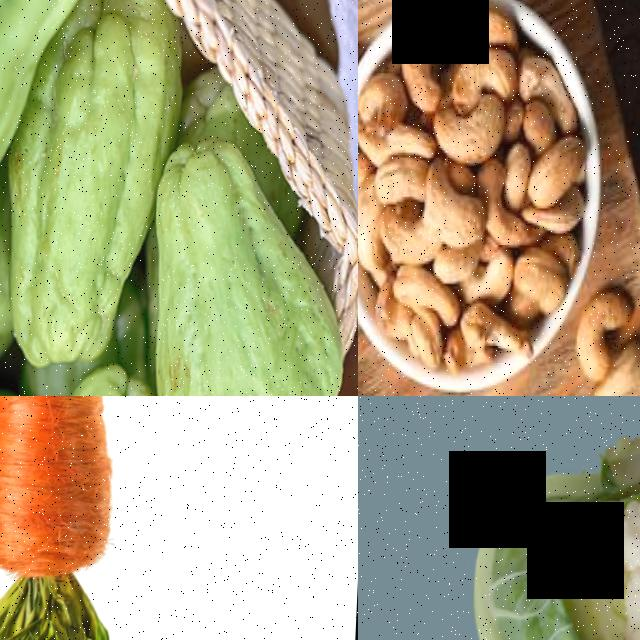carrot: (0, 396, 149, 624)
cashew: (410, 163, 495, 253), (397, 3, 447, 116), (524, 239, 574, 332), (441, 52, 523, 105), (528, 138, 586, 207), (435, 0, 527, 43), (427, 109, 503, 159), (584, 291, 618, 367), (598, 361, 640, 396)
cauliflower: (421, 410, 640, 640)
chayote: (0, 0, 155, 364), (154, 137, 338, 396)
